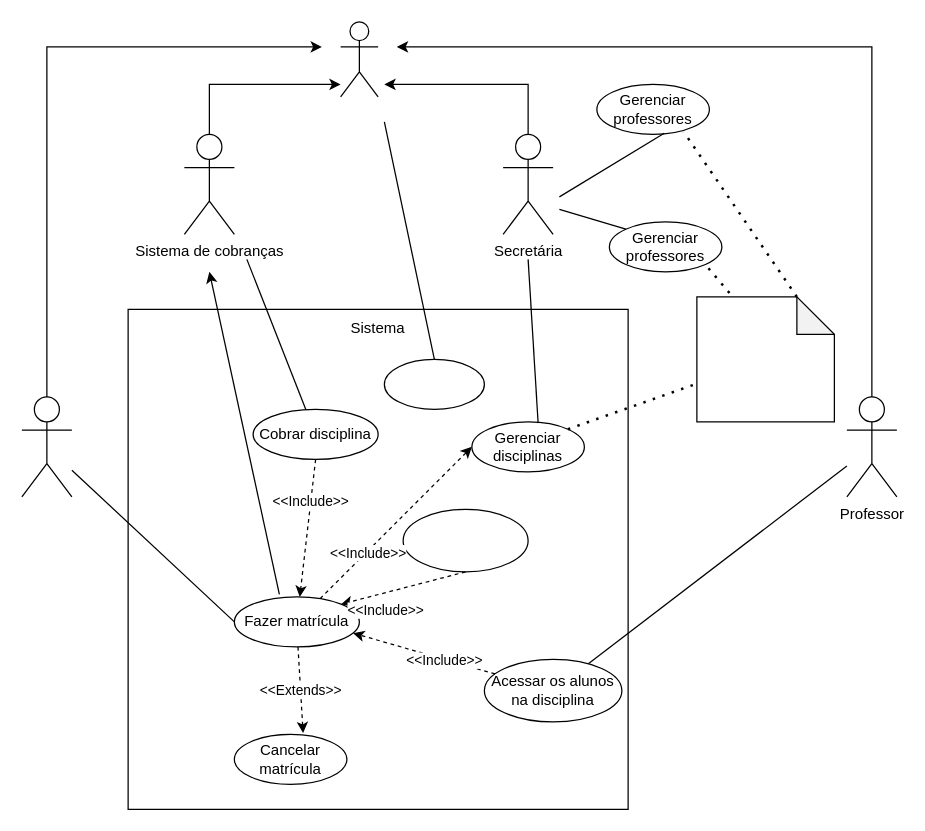
Image size: 925x831. Some labels were removed from this diagram. Each missing label, with the centre of its shape:
"Aluno" belongs at point 46,446.
"Criar, ler, atualizar e remover" belongs at point 765,359.
"Fazer login" belongs at point 433,383.
"Pagar disciplina" belongs at point 465,540.
"Usuário" belongs at point 358,59.
